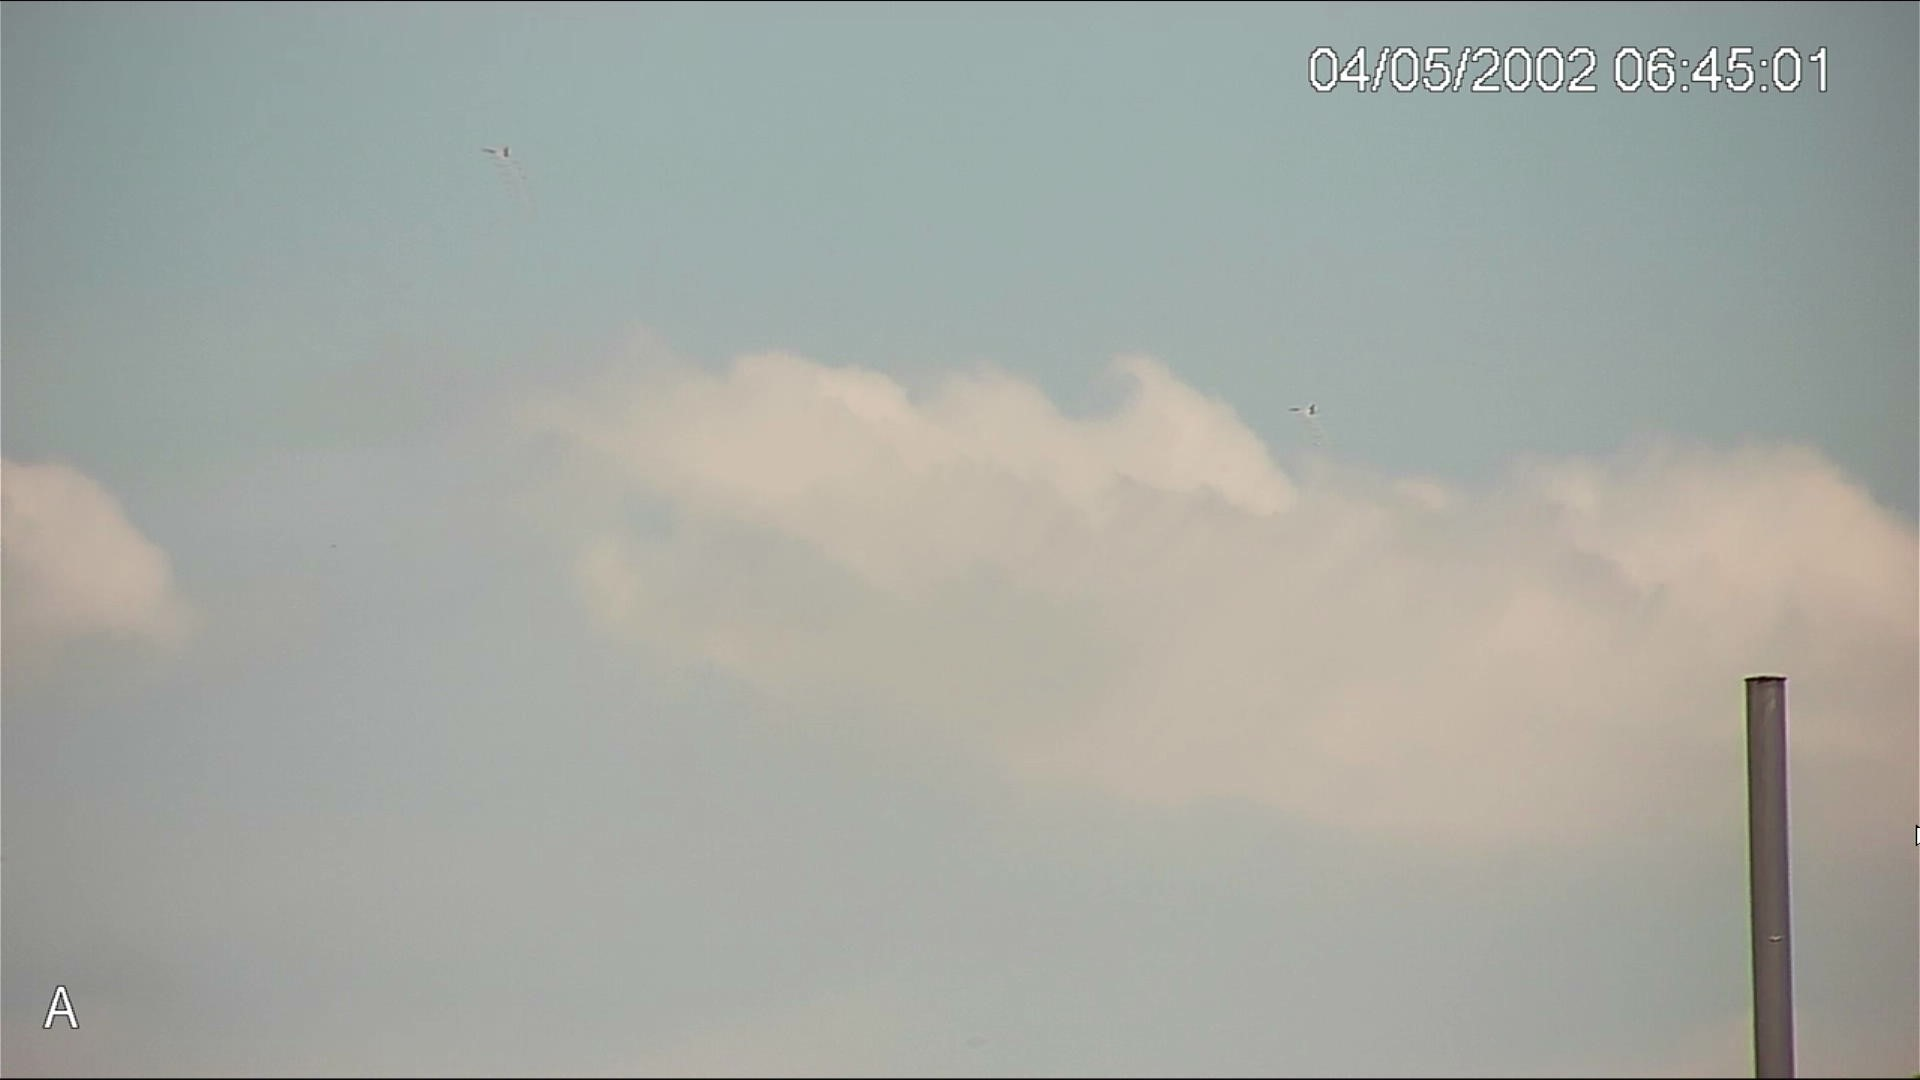SU_30: (1283, 401, 1317, 419), (481, 142, 512, 158)
